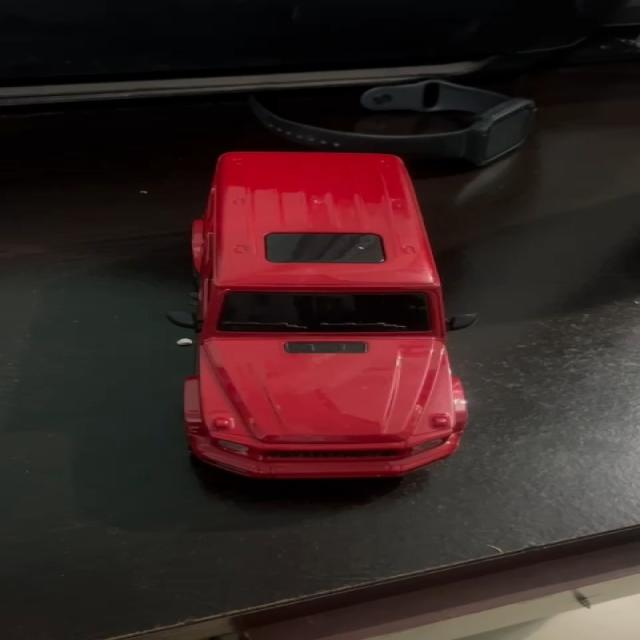light_vehicle: (168, 149, 470, 475)
